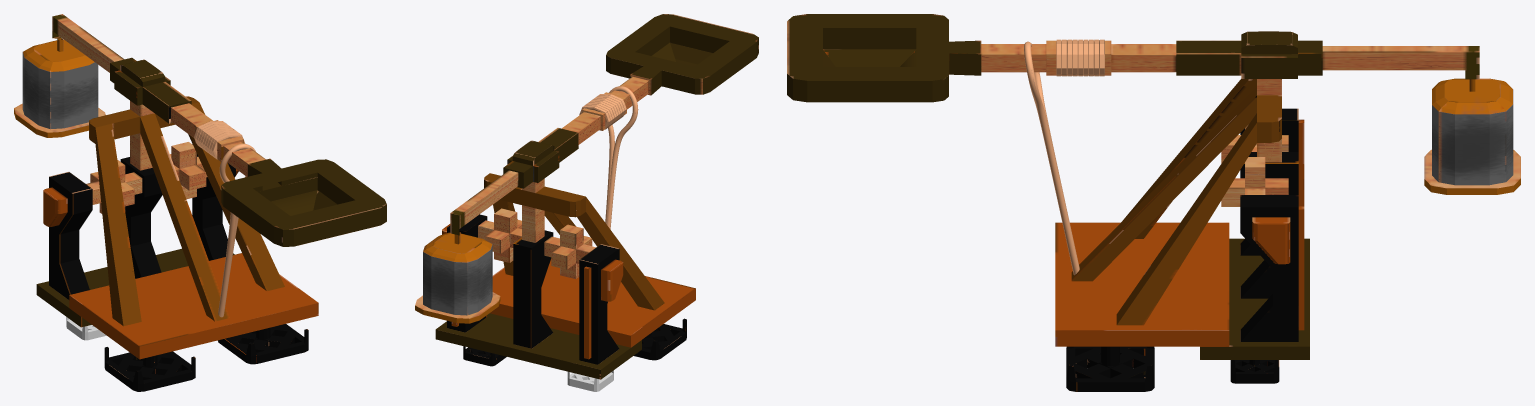
Rendered from CataPulta Tier 3 V2.fbx.
3 renders of one model, left to right at view 1: azimuth 30°, elevation 25°; view 2: azimuth 150°, elevation 25°; view 3: azimuth 270°, elevation 25°, orthographic. The views are drawn at different scales.
Visible parts, largest first — view 1: Cube.160, Cube.001, Cube.161; view 2: Cube.160, Cube.001, Cube.161; view 3: Cube.160, Cube.001.
Boxes of the visible parts, x1,y1,x2,y2 form: Cube.160: (36, 96, 318, 391); Cube.001: (14, 14, 386, 246); Cube.161: (66, 317, 106, 340); Cube.160: (435, 86, 695, 379); Cube.001: (415, 14, 758, 323); Cube.161: (567, 370, 613, 391); Cube.160: (1024, 41, 1309, 391); Cube.001: (787, 14, 1520, 194).
Size of the model in its own units: 1443 by 1817 by 4013.
